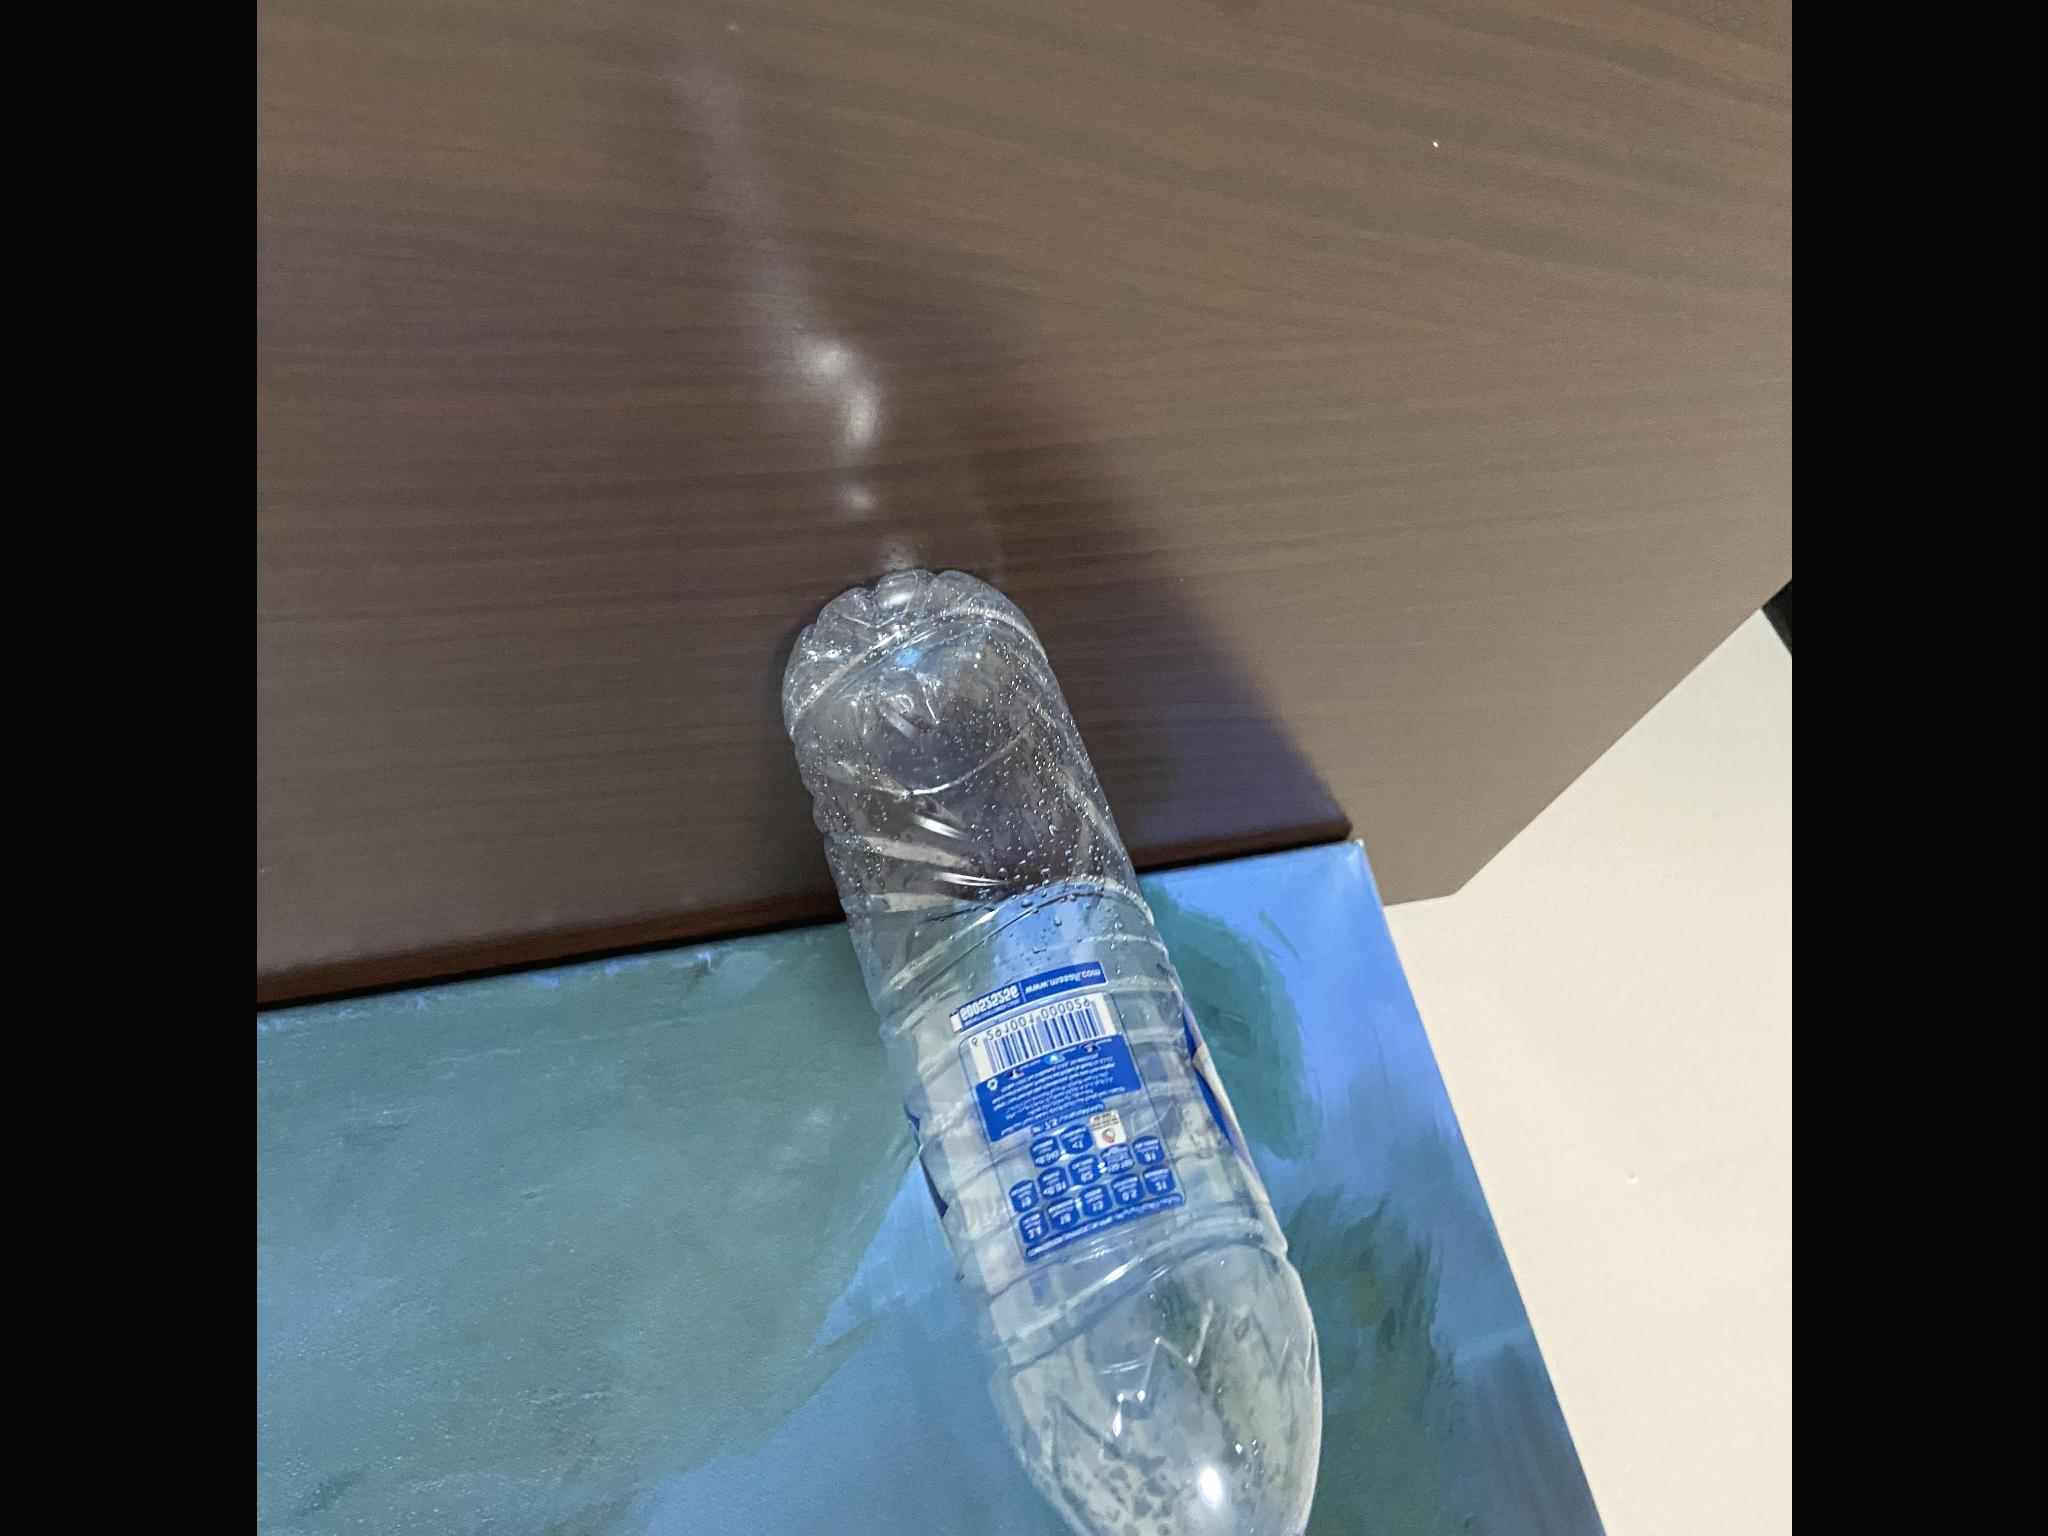bottle: (766, 559, 1376, 1536)
